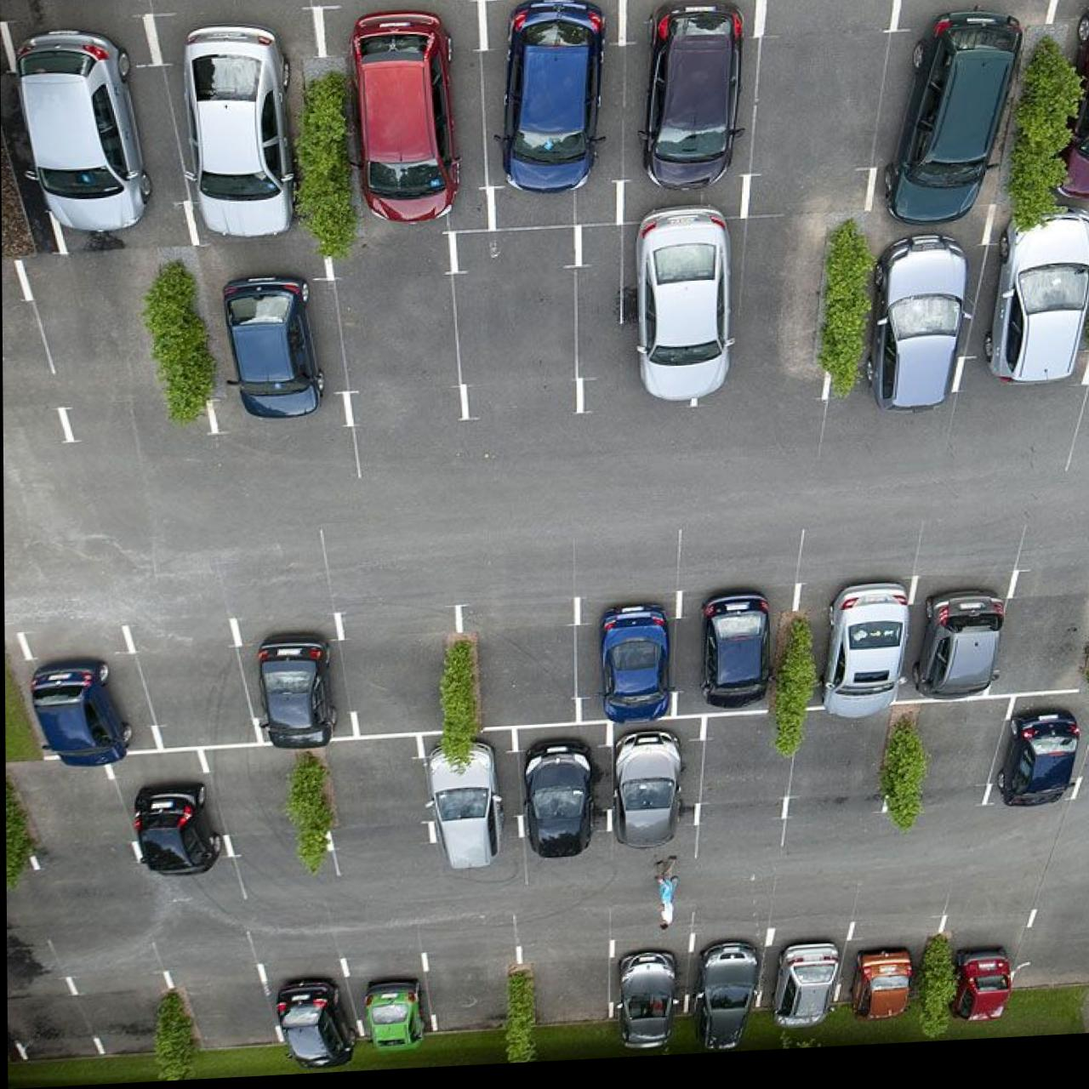cars: (335, 11, 495, 240), (484, 5, 627, 230), (181, 9, 319, 237), (44, 17, 173, 250), (892, 0, 1030, 195), (623, 0, 744, 218), (692, 216, 816, 409), (215, 251, 343, 425), (854, 223, 970, 403), (981, 203, 1089, 395), (584, 233, 696, 405), (11, 623, 143, 758), (791, 568, 903, 710), (678, 575, 787, 714), (579, 584, 679, 718), (106, 759, 214, 882), (436, 724, 523, 865), (516, 729, 614, 849), (921, 574, 1007, 708), (617, 722, 705, 844), (263, 611, 337, 747), (1002, 697, 1089, 810), (848, 921, 935, 1022), (610, 926, 696, 1027), (264, 962, 360, 1052), (938, 912, 1021, 1013), (769, 919, 843, 1028), (693, 925, 764, 1030), (354, 947, 428, 1041)
empty: (760, 0, 896, 215), (56, 246, 182, 443), (460, 227, 572, 412), (352, 239, 451, 423), (466, 593, 589, 727), (349, 591, 452, 737), (216, 746, 329, 869), (325, 734, 432, 857), (792, 706, 903, 821), (154, 620, 254, 743), (901, 707, 998, 820), (26, 750, 112, 877), (705, 710, 793, 828), (88, 962, 191, 1061), (181, 950, 275, 1055), (1012, 569, 1089, 691), (427, 947, 518, 1037), (527, 933, 611, 1027), (7, 969, 84, 1066), (1018, 903, 1089, 1000)
